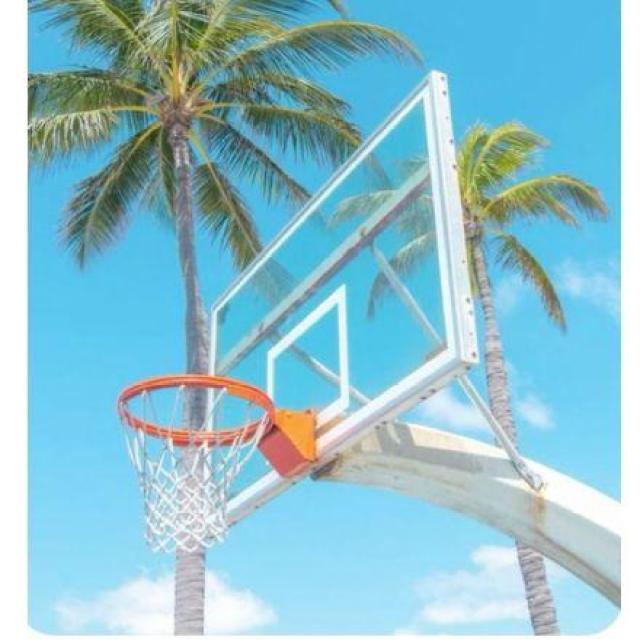hoop: (120, 345, 304, 539)
